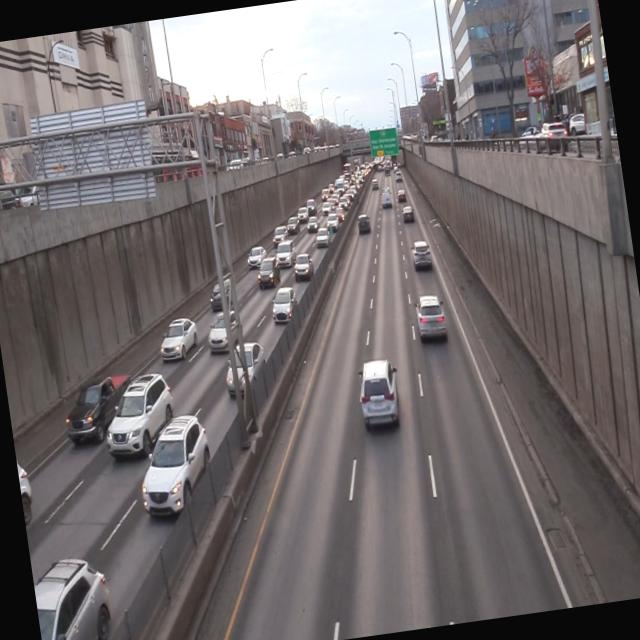Vehicle: (131, 400, 223, 534), (98, 363, 185, 475), (55, 356, 144, 457), (354, 358, 408, 439), (224, 339, 272, 408), (155, 312, 205, 368), (204, 307, 248, 360), (412, 289, 452, 347), (205, 268, 242, 317), (270, 284, 302, 328), (253, 255, 284, 295), (288, 250, 320, 284), (407, 240, 435, 274), (272, 236, 298, 272), (354, 211, 376, 240), (400, 200, 419, 232)
